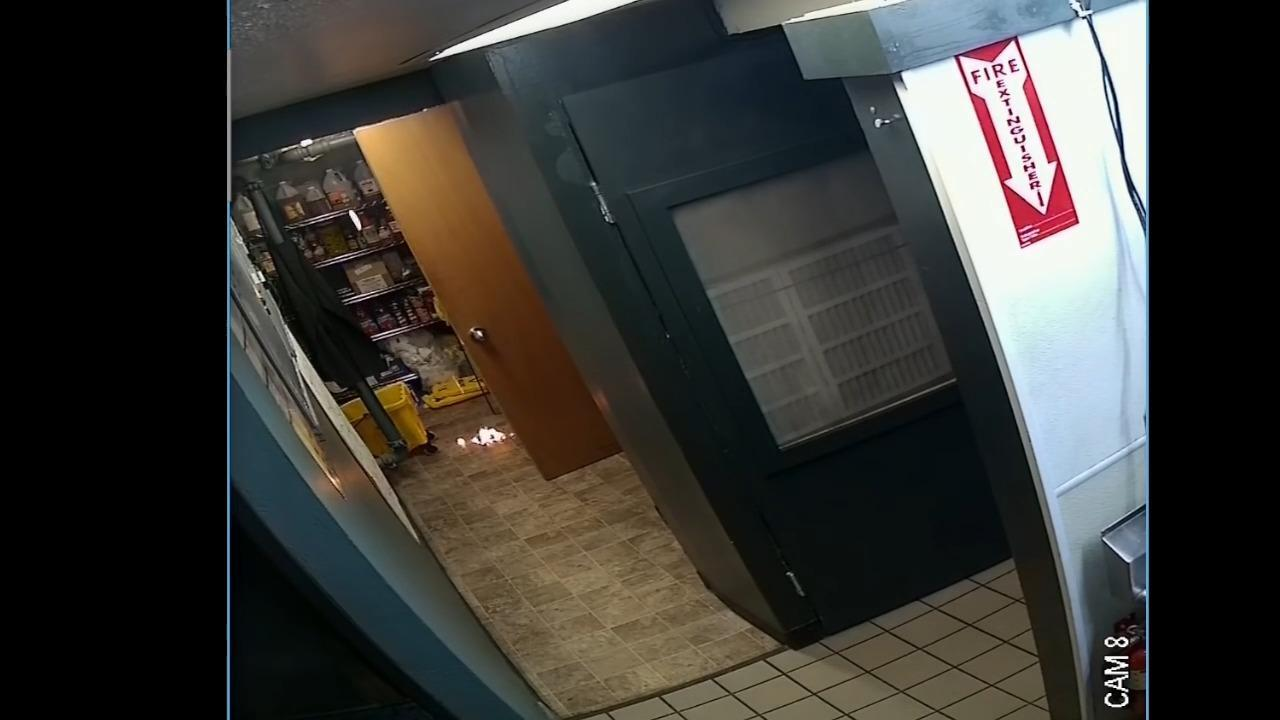fire: (457, 426, 515, 447)
